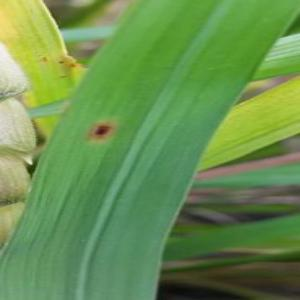0 BrownSpot: (82, 110, 122, 150), (37, 53, 50, 65), (65, 60, 79, 70), (57, 72, 71, 81), (55, 57, 67, 67)
